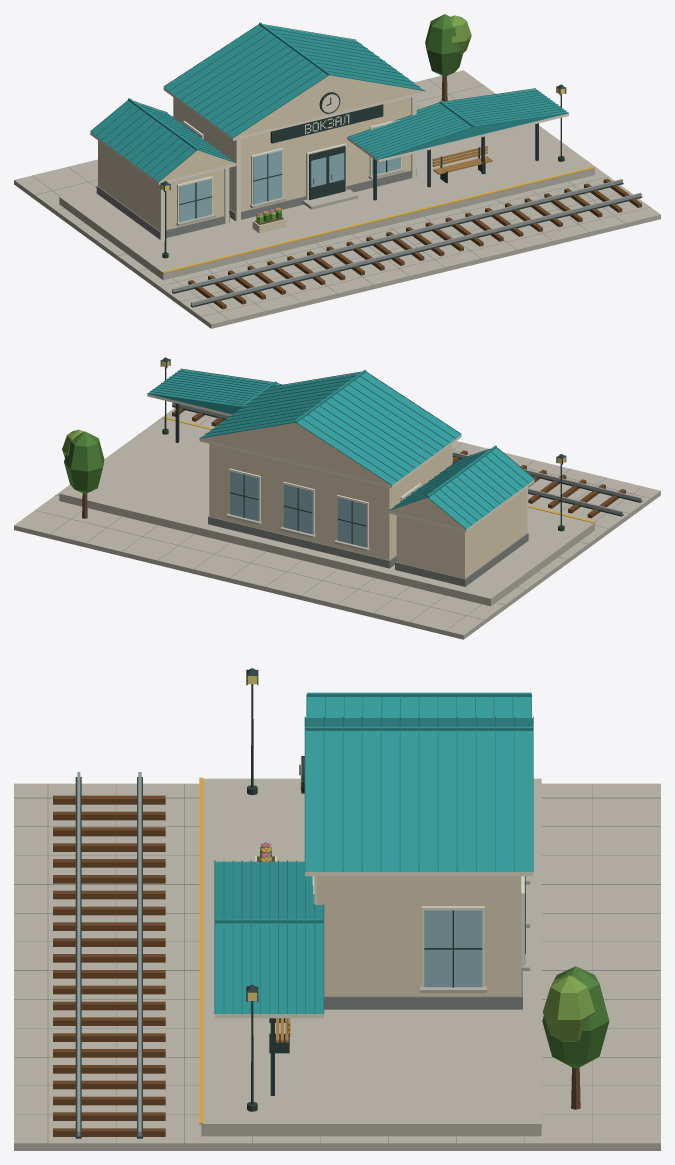
Rendered from 08_RailwayStation.obj.
The picture shows the model from 3 angles, top to bottom: view 1: azimuth 30°, elevation 25°; view 2: azimuth 150°, elevation 25°; view 3: azimuth 270°, elevation 25°; orthographic projection. The views are drawn at different scales.
Visible parts, largest first — view 1: 08_RailwayStation; view 2: 08_RailwayStation; view 3: 08_RailwayStation.
Boxes of the visible parts, bbox=[...] form: 08_RailwayStation: bbox=[14, 14, 660, 328]; 08_RailwayStation: bbox=[14, 357, 660, 639]; 08_RailwayStation: bbox=[14, 668, 660, 1150].
Size of the model in its own units: 25 by 7.43 by 19.
Materials: 1 (1 with a texture image).
